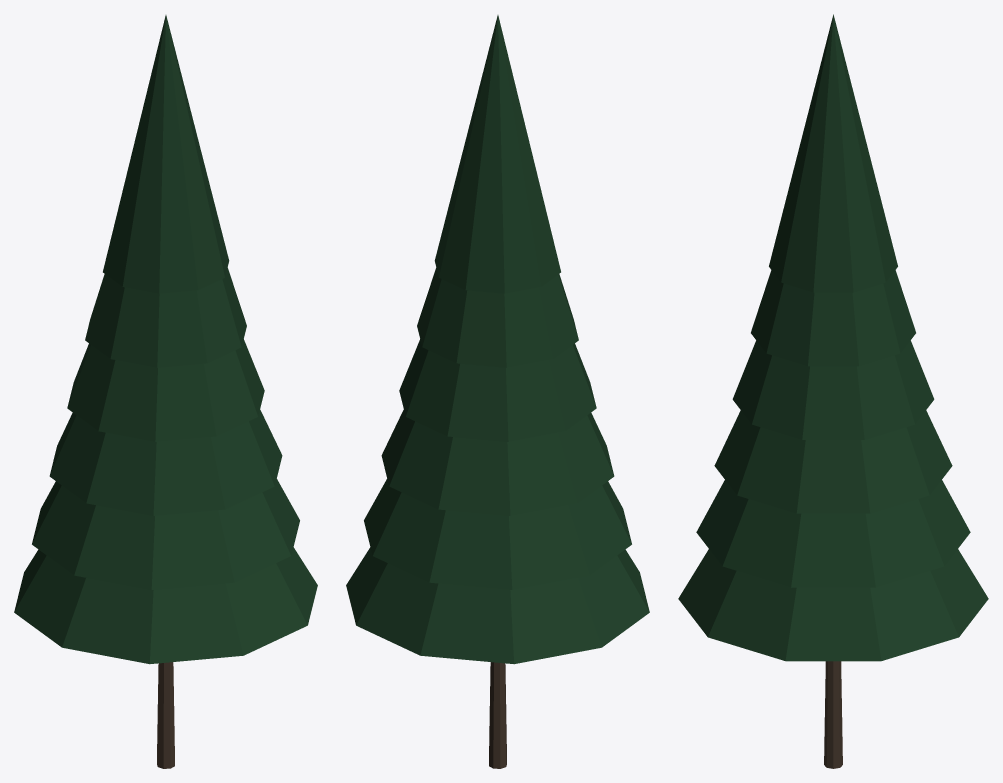
The model's file is SM_Cam_C.fbx.
3 views of the same model, side by side, from view 1: azimuth 30°, elevation 25°; view 2: azimuth 150°, elevation 25°; view 3: azimuth 270°, elevation 25° (orthographic).
Visible parts, largest first — view 1: Cam_C; view 2: Cam_C; view 3: Cam_C.
Boxes of the visible parts, x1,y1,x2,y2 form: Cam_C: (14,15,317,768); Cam_C: (346,15,649,768); Cam_C: (678,14,988,768).
Bounding box in the file's own units: 685 × 1921 × 720.
